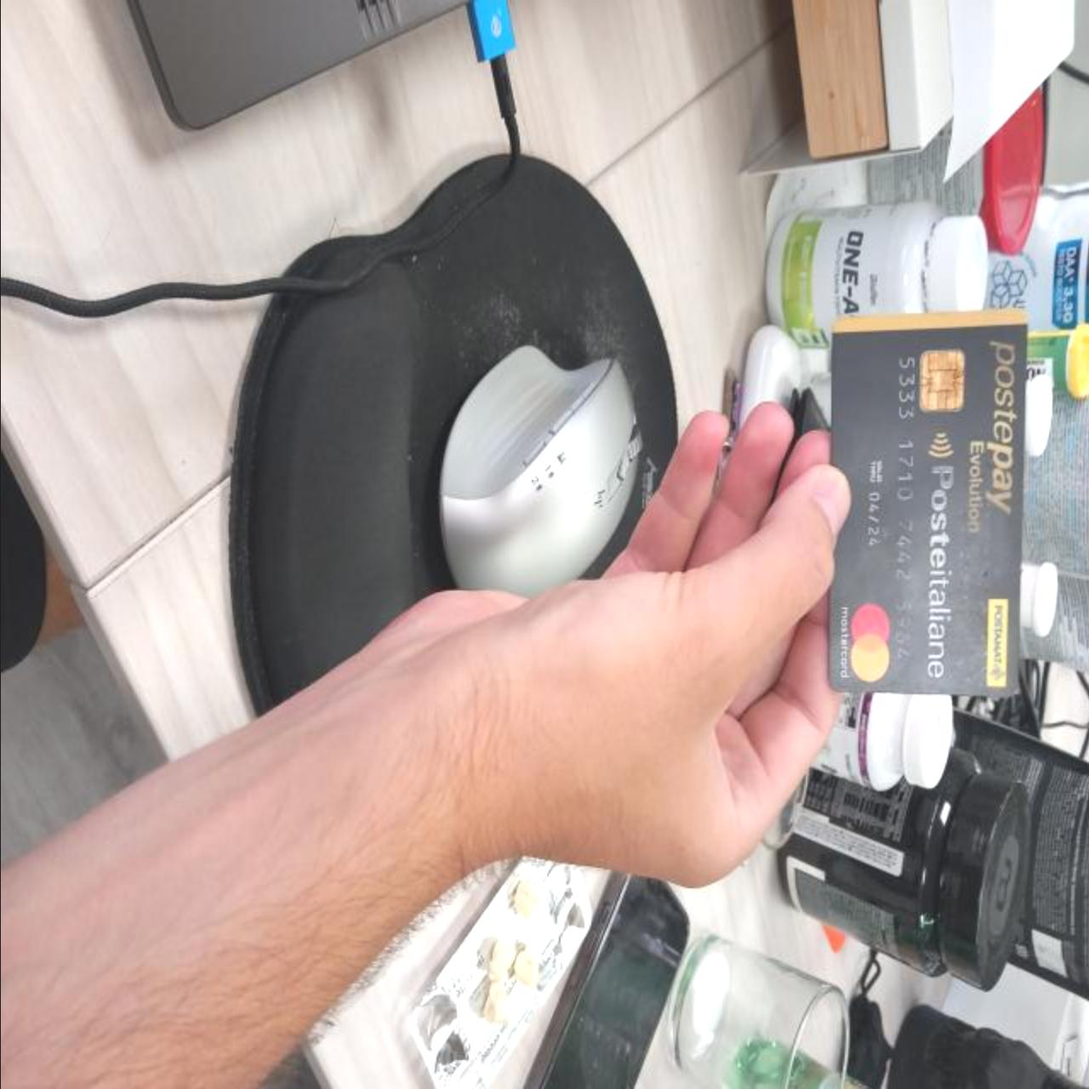credit_card: (827, 309, 1027, 696)
